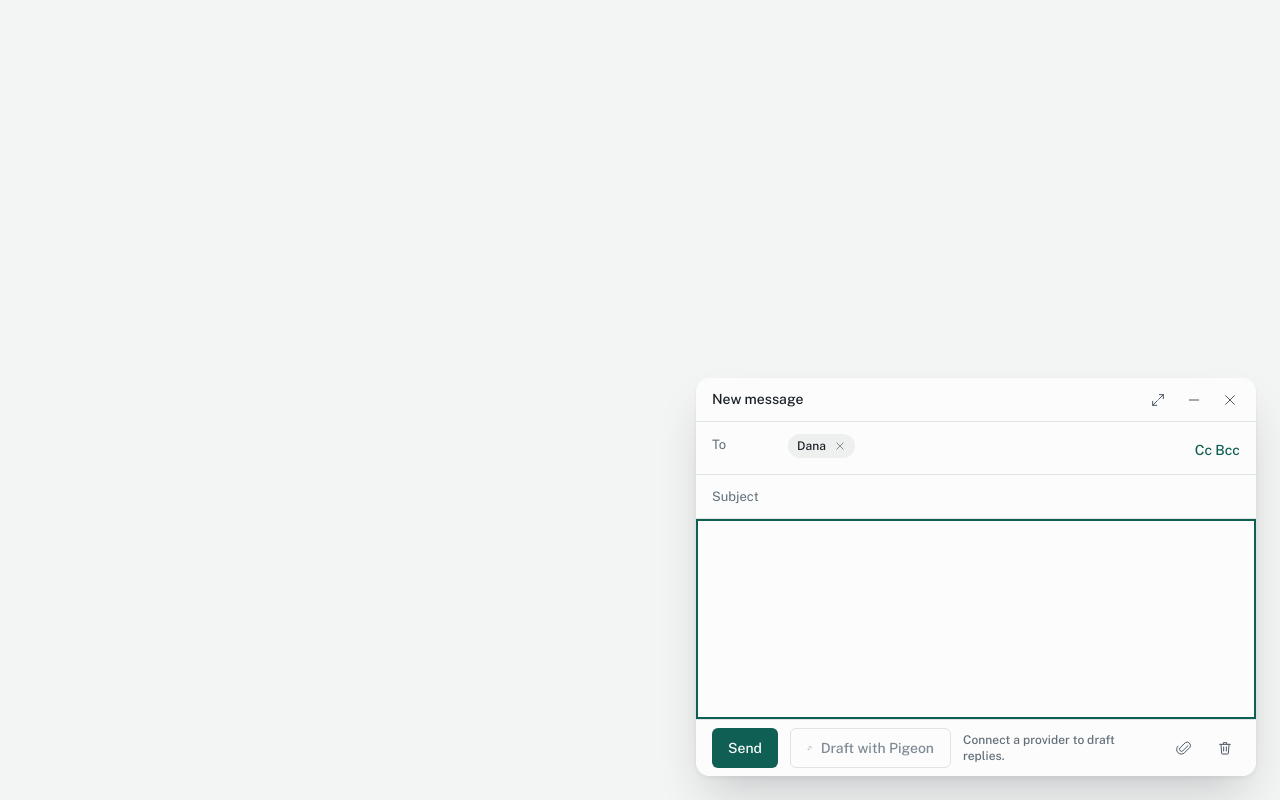
it: a failed send does not haunt the next draft › clears the banner when a new draft opens
What coordinates should you click on to do the following:
click the button "Send"
I would click on:
 (745, 748)
Its box is [712,728,778,768].
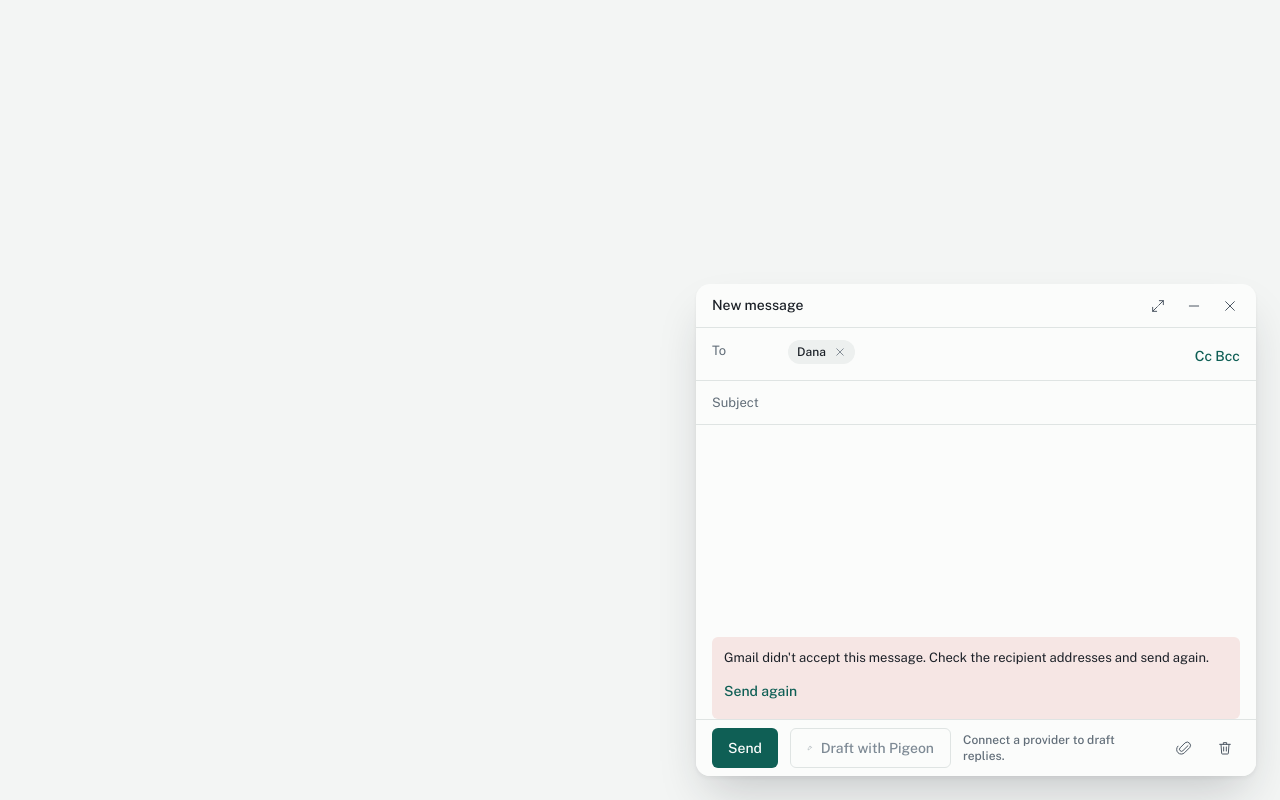
Expected: the message shows "didn't accept this message", [724,650,1209,665]
What coordinates should you click on to do the following:
click the button named "Close"
I would click on:
 (1230, 306)
Its box is [1216,292,1244,320].
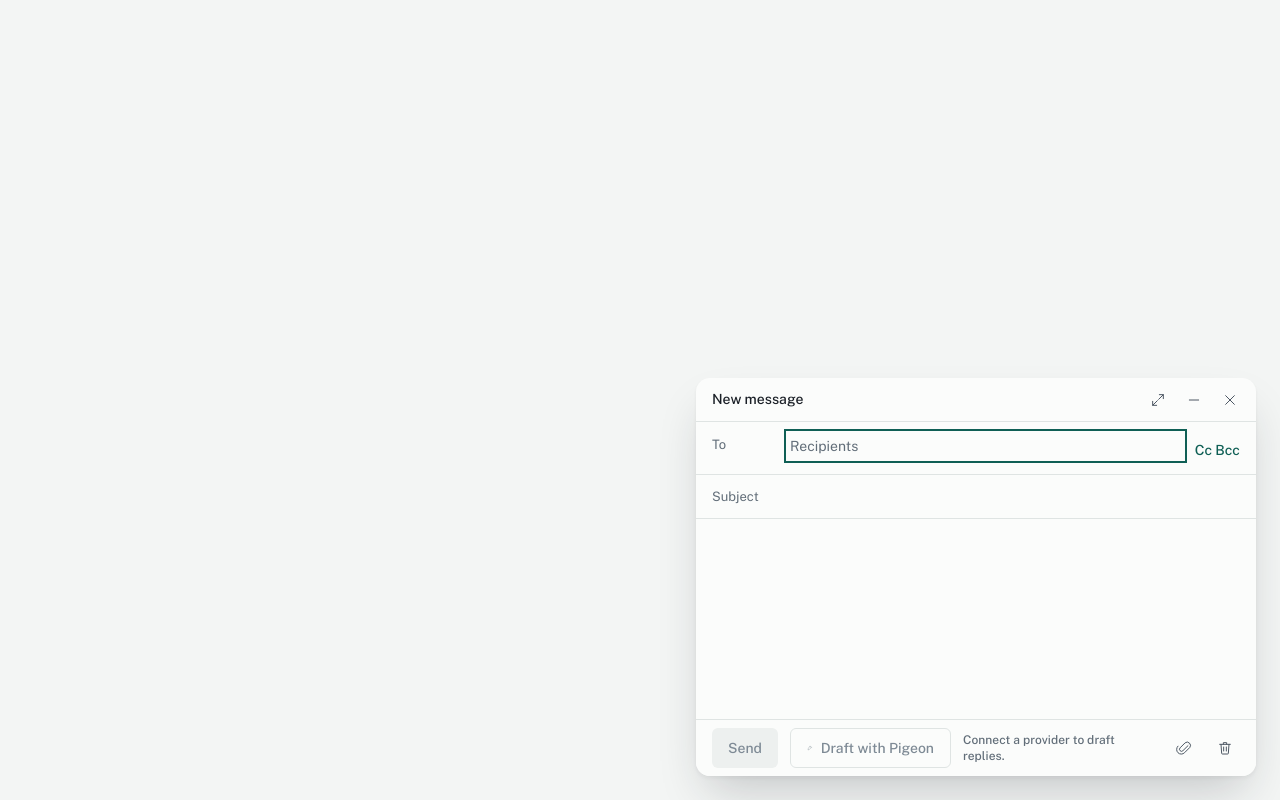
Expected: the field labelled "Subject" is shown, [788,476,1240,516]
Expected: the message "Gmail didn't accept this message. Check the recipient addresses and send again." is gone
